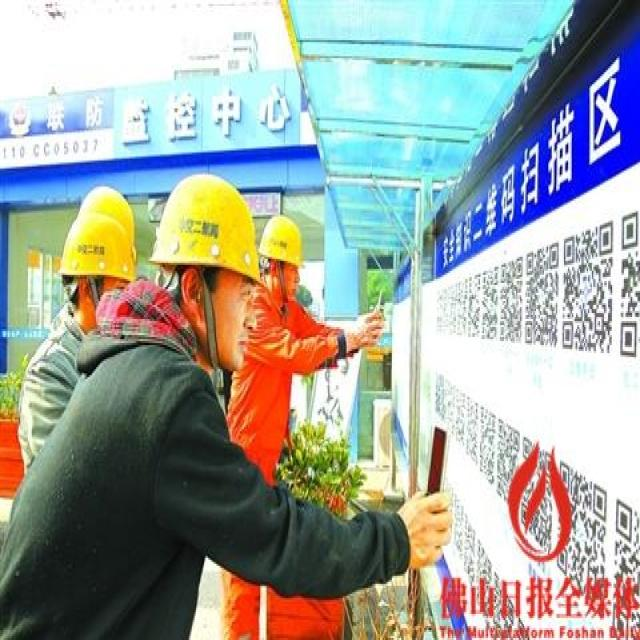helmet: (150, 225, 261, 496), (59, 284, 138, 441), (259, 281, 307, 399)
